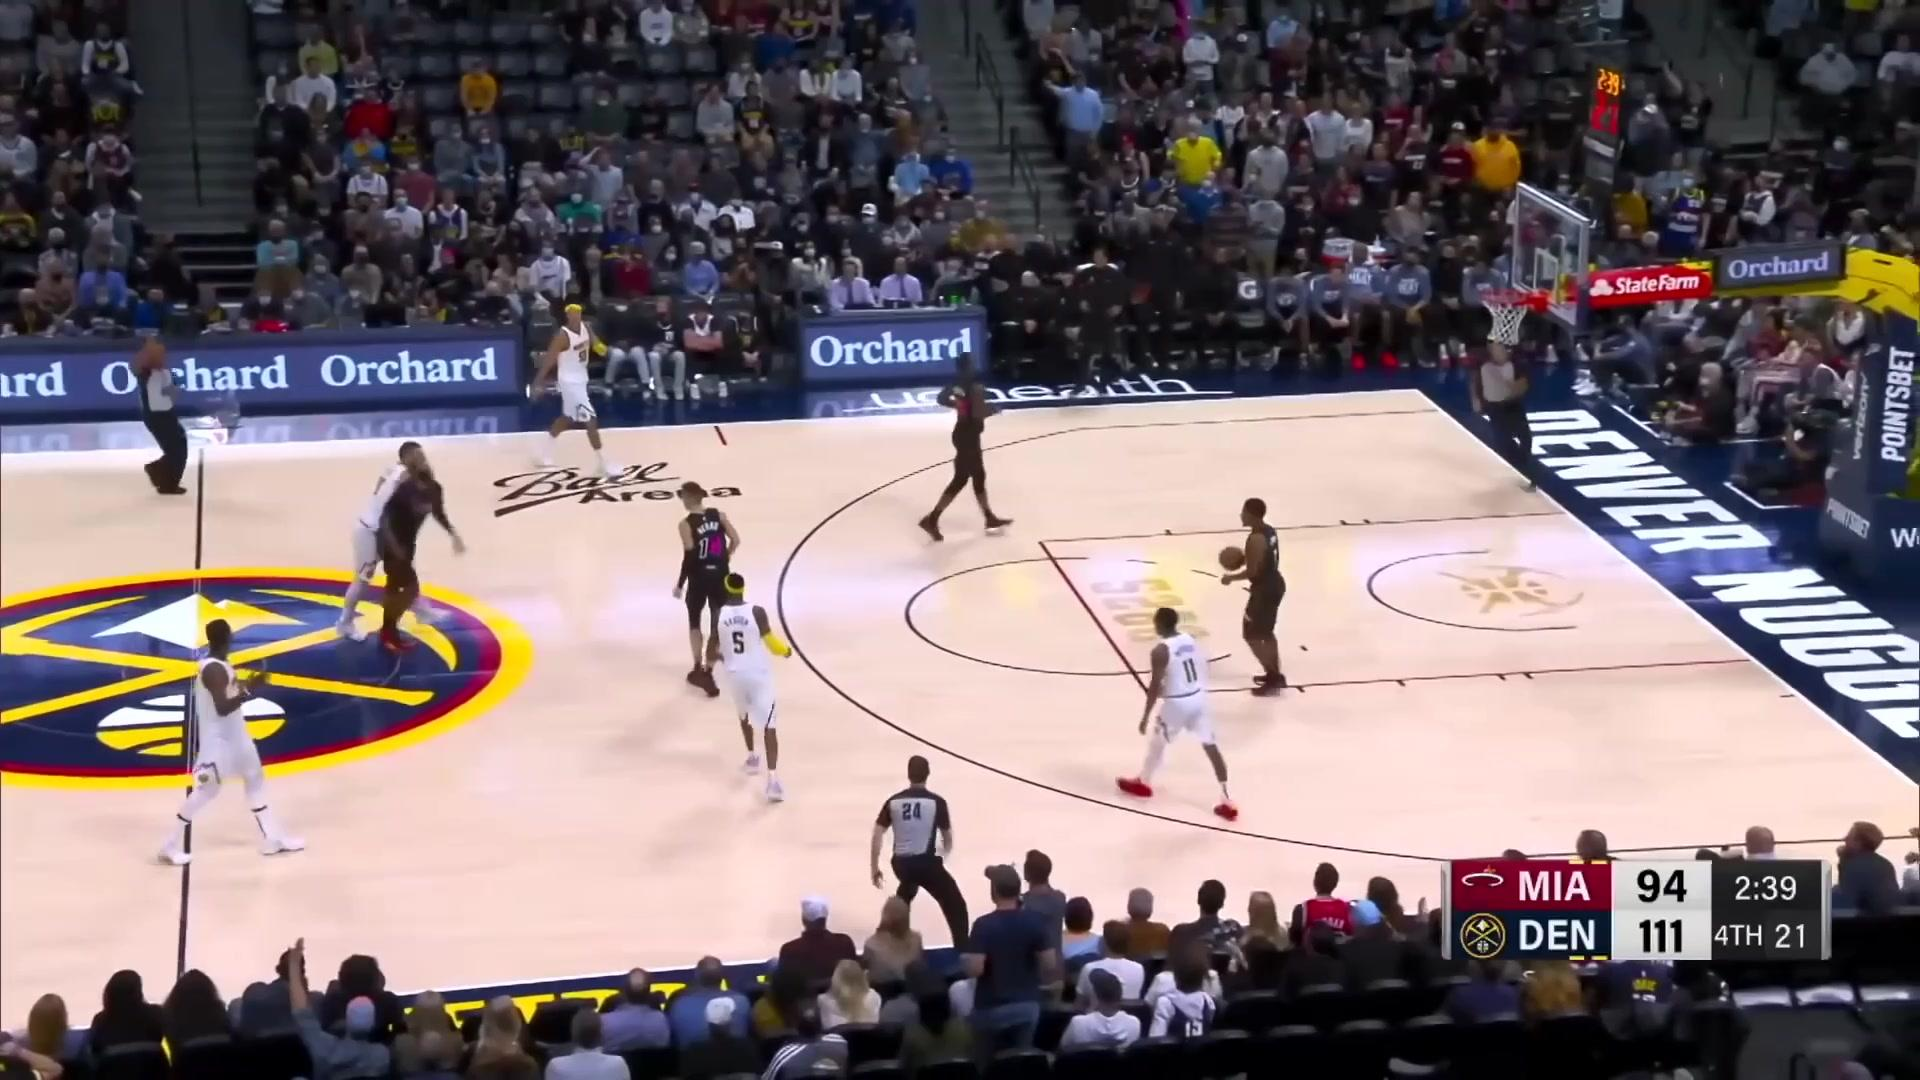foul: (318, 423, 481, 684)
